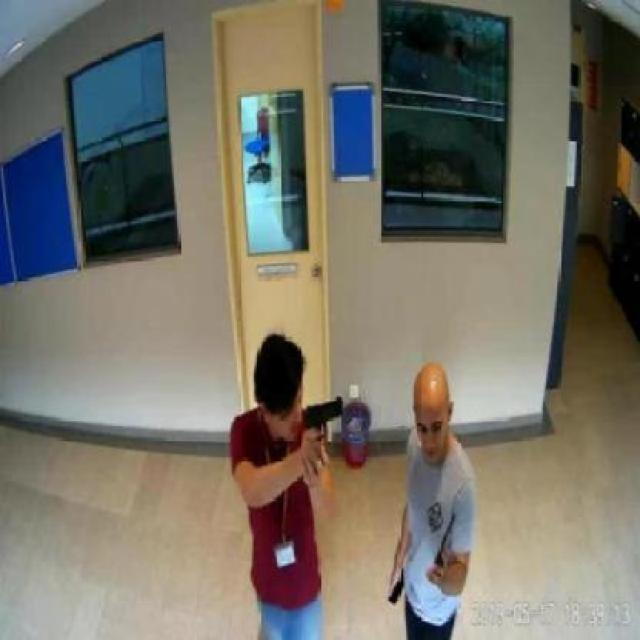Handgun: (301, 393, 341, 461), (427, 551, 461, 597), (385, 543, 408, 586)
